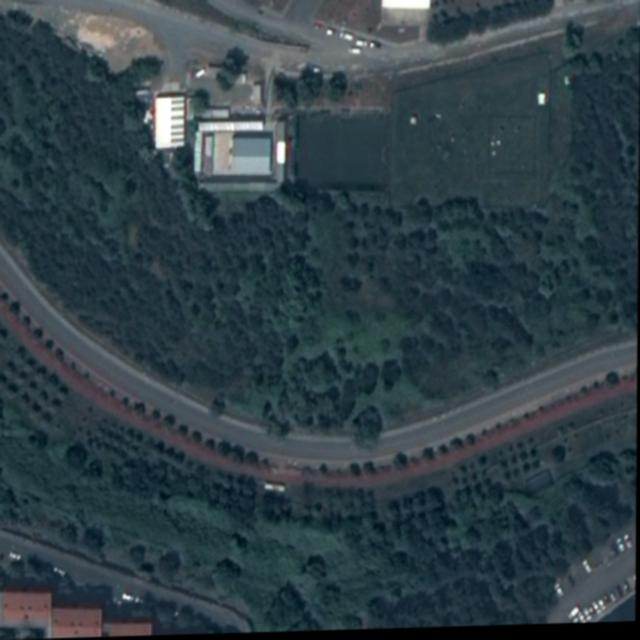Batiment: (195, 122, 274, 179), (0, 592, 53, 636), (157, 94, 187, 149), (53, 608, 103, 637), (104, 623, 154, 636)
